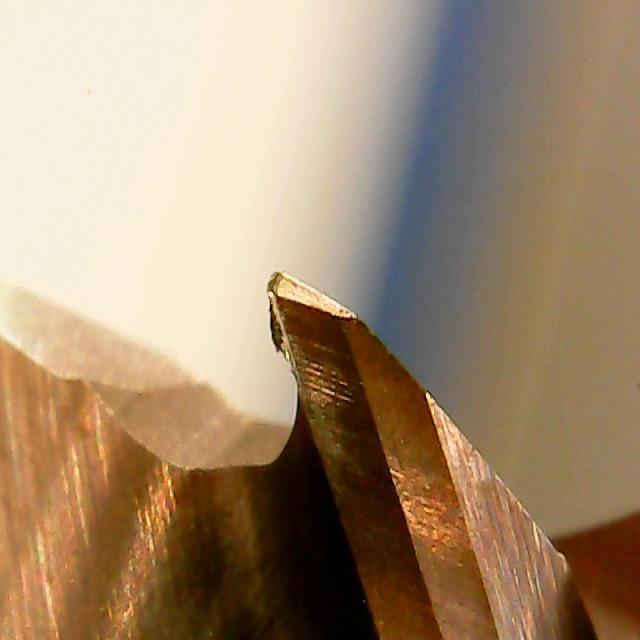Tool-wear-class-1: (260, 256, 408, 506)
